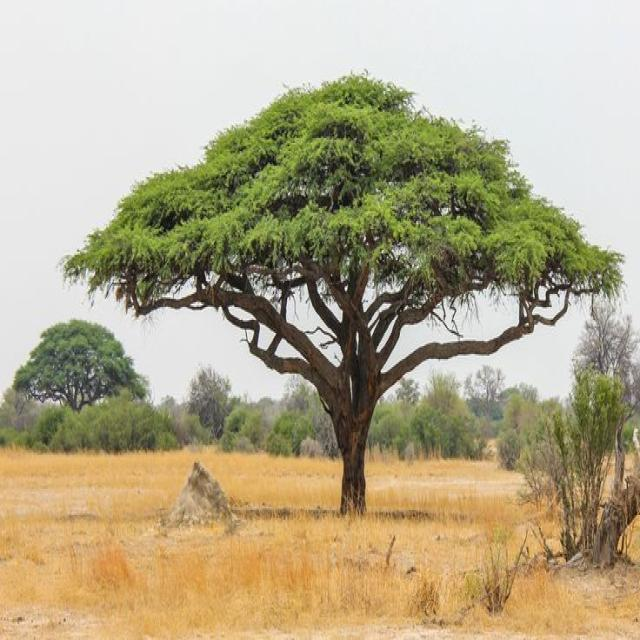Acacia: (108, 75, 583, 487)
